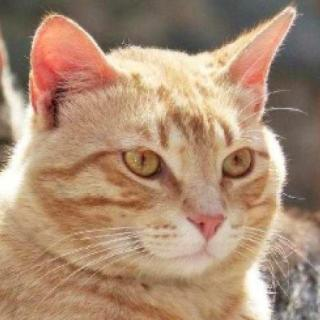cat: (21, 6, 305, 284)
nose: (182, 193, 228, 246)
